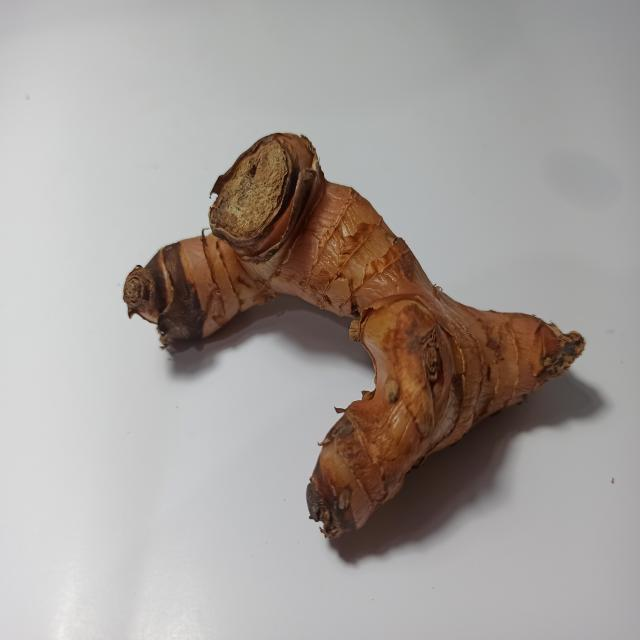ginger: (144, 135, 566, 524)
